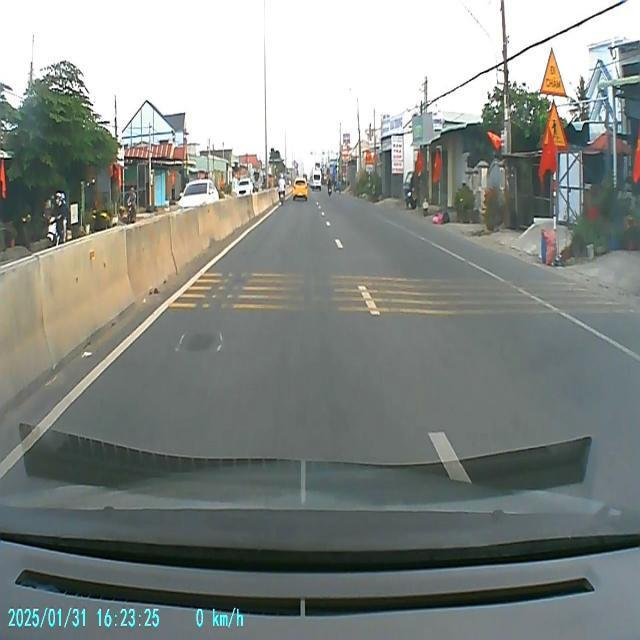224-duong-nguoi-di-bo-cat-ngang: (541, 101, 569, 151)
245-di-cham: (540, 47, 568, 97)
